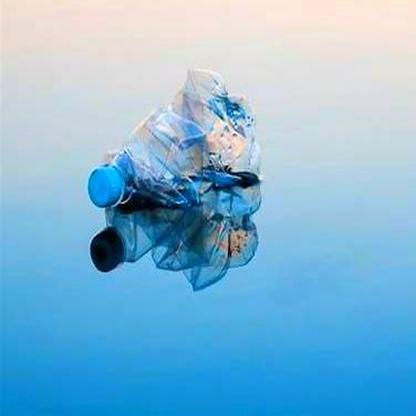plastic bottle: (87, 69, 262, 207)
